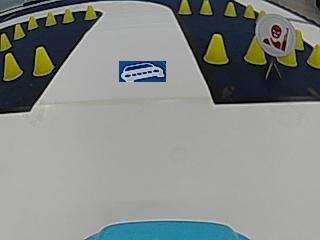evil: (256, 14, 295, 57)
